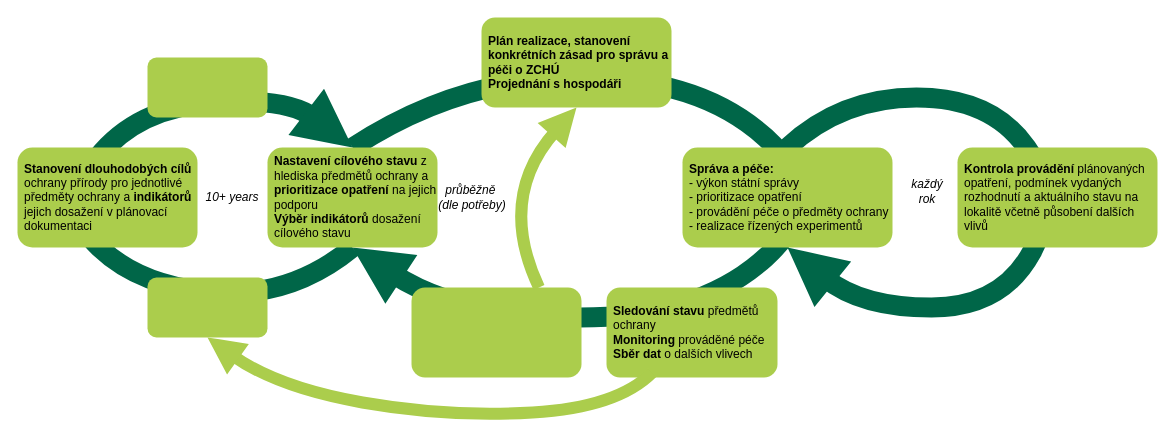
Some shapes in this 1174 by 437 pixel diagram are drawn without their labels. Each missing label, with the centre of its shape:
"Audit plnění cílů ochrany přírody" belongs at point 207,307.
"Hodnocení stavu předmětů ochrany a dopadů plánované péče" belongs at point 496,332.
"Prioritizace cílů ochrany přírody" belongs at point 207,87.
